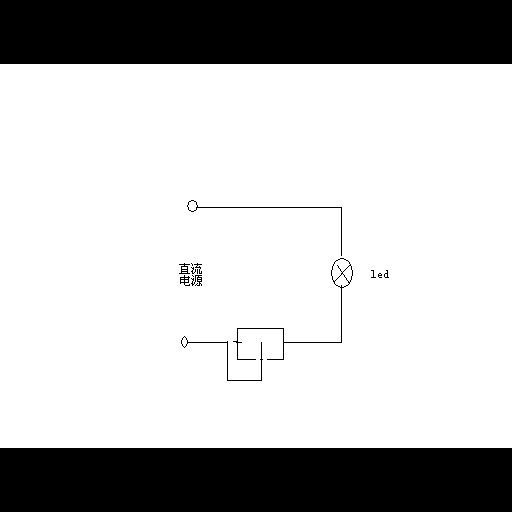light: (326, 251, 357, 289)
